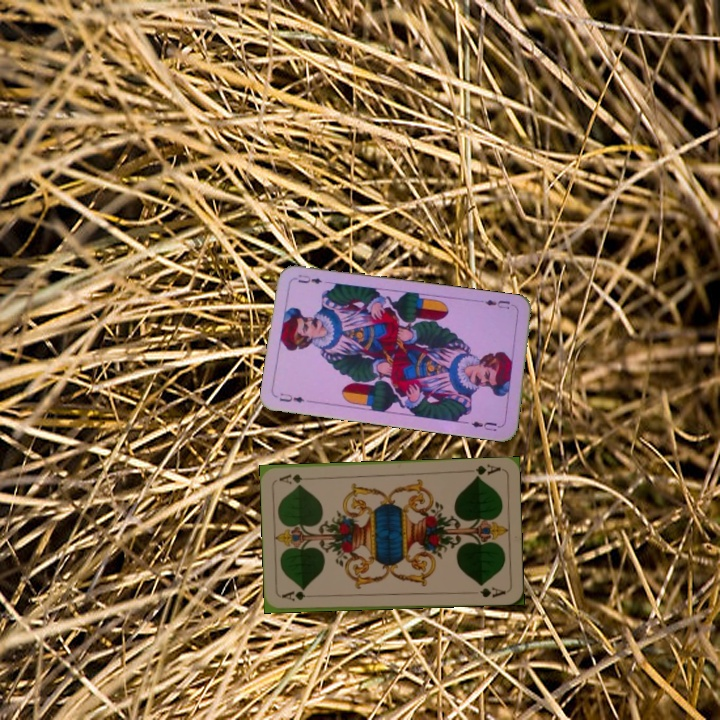EU: (478, 296, 518, 312), (275, 389, 306, 405)
GA: (463, 460, 503, 481), (278, 588, 319, 604)
